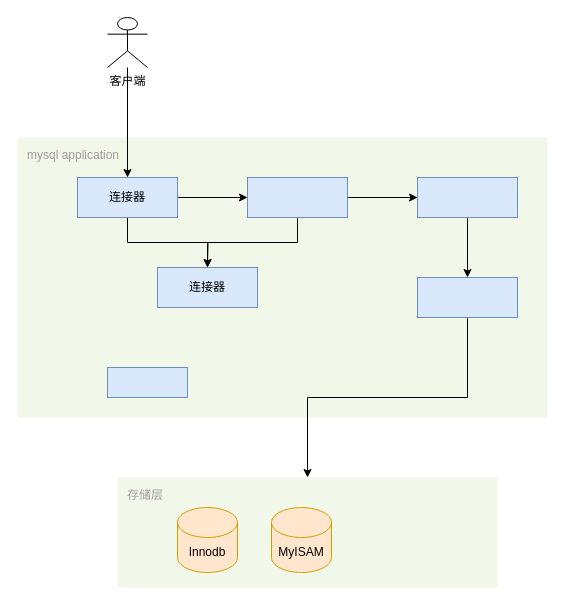
The diagram is 564 pixels wide and 605 high, and some of its shapes have lost their labels. The centre of each missing label's shape, as x and y in pixels:
binlog: (147,382)
优化器: (467,197)
分词器: (297,197)
执行器: (467,297)
